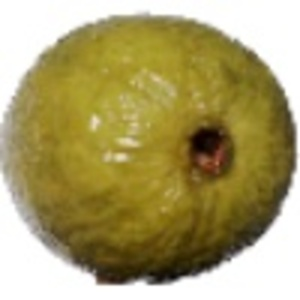goiaba: (5, 9, 296, 276)
